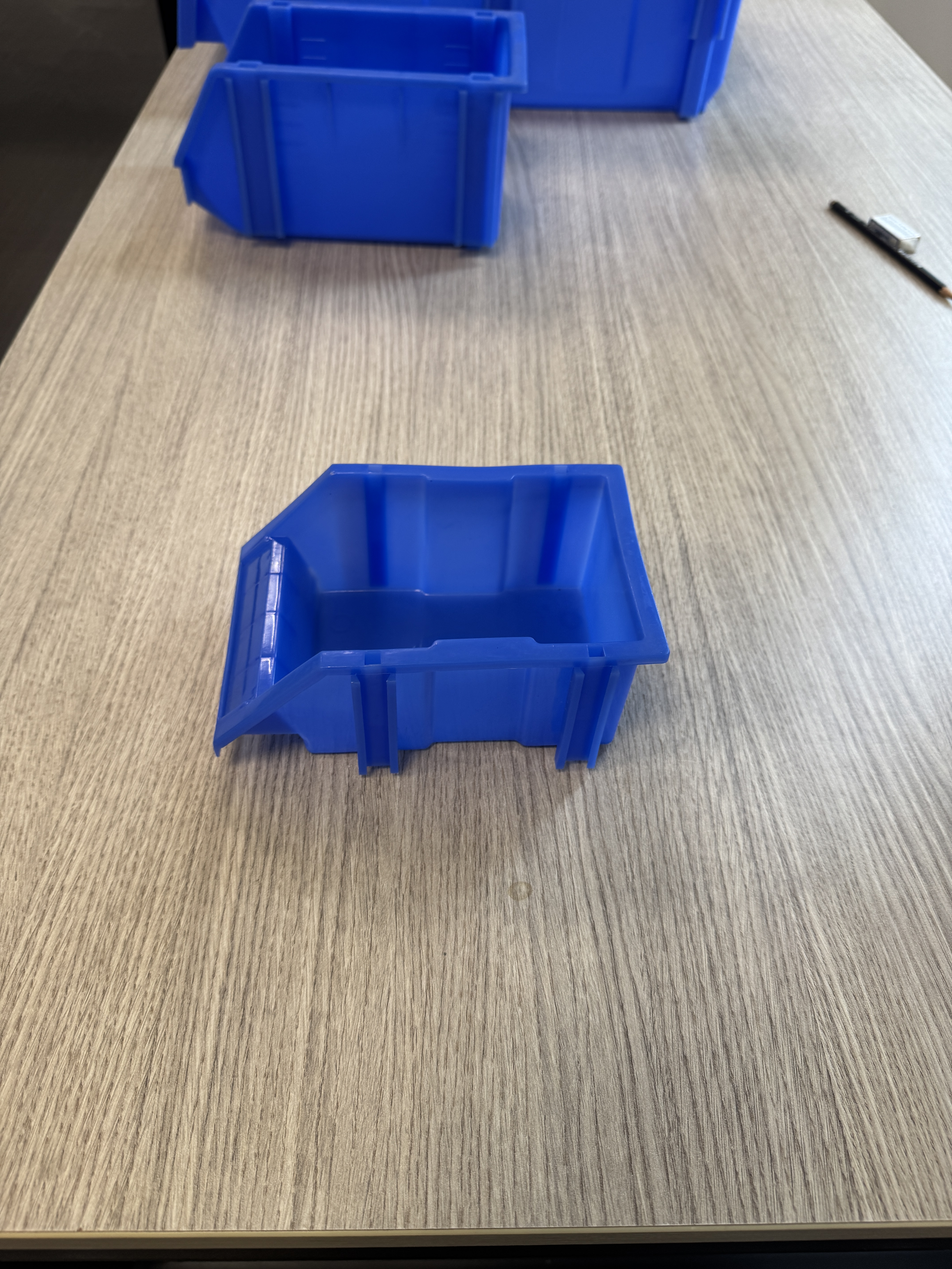Bin Boundary: (266, 472, 647, 686), (223, 0, 508, 77)
